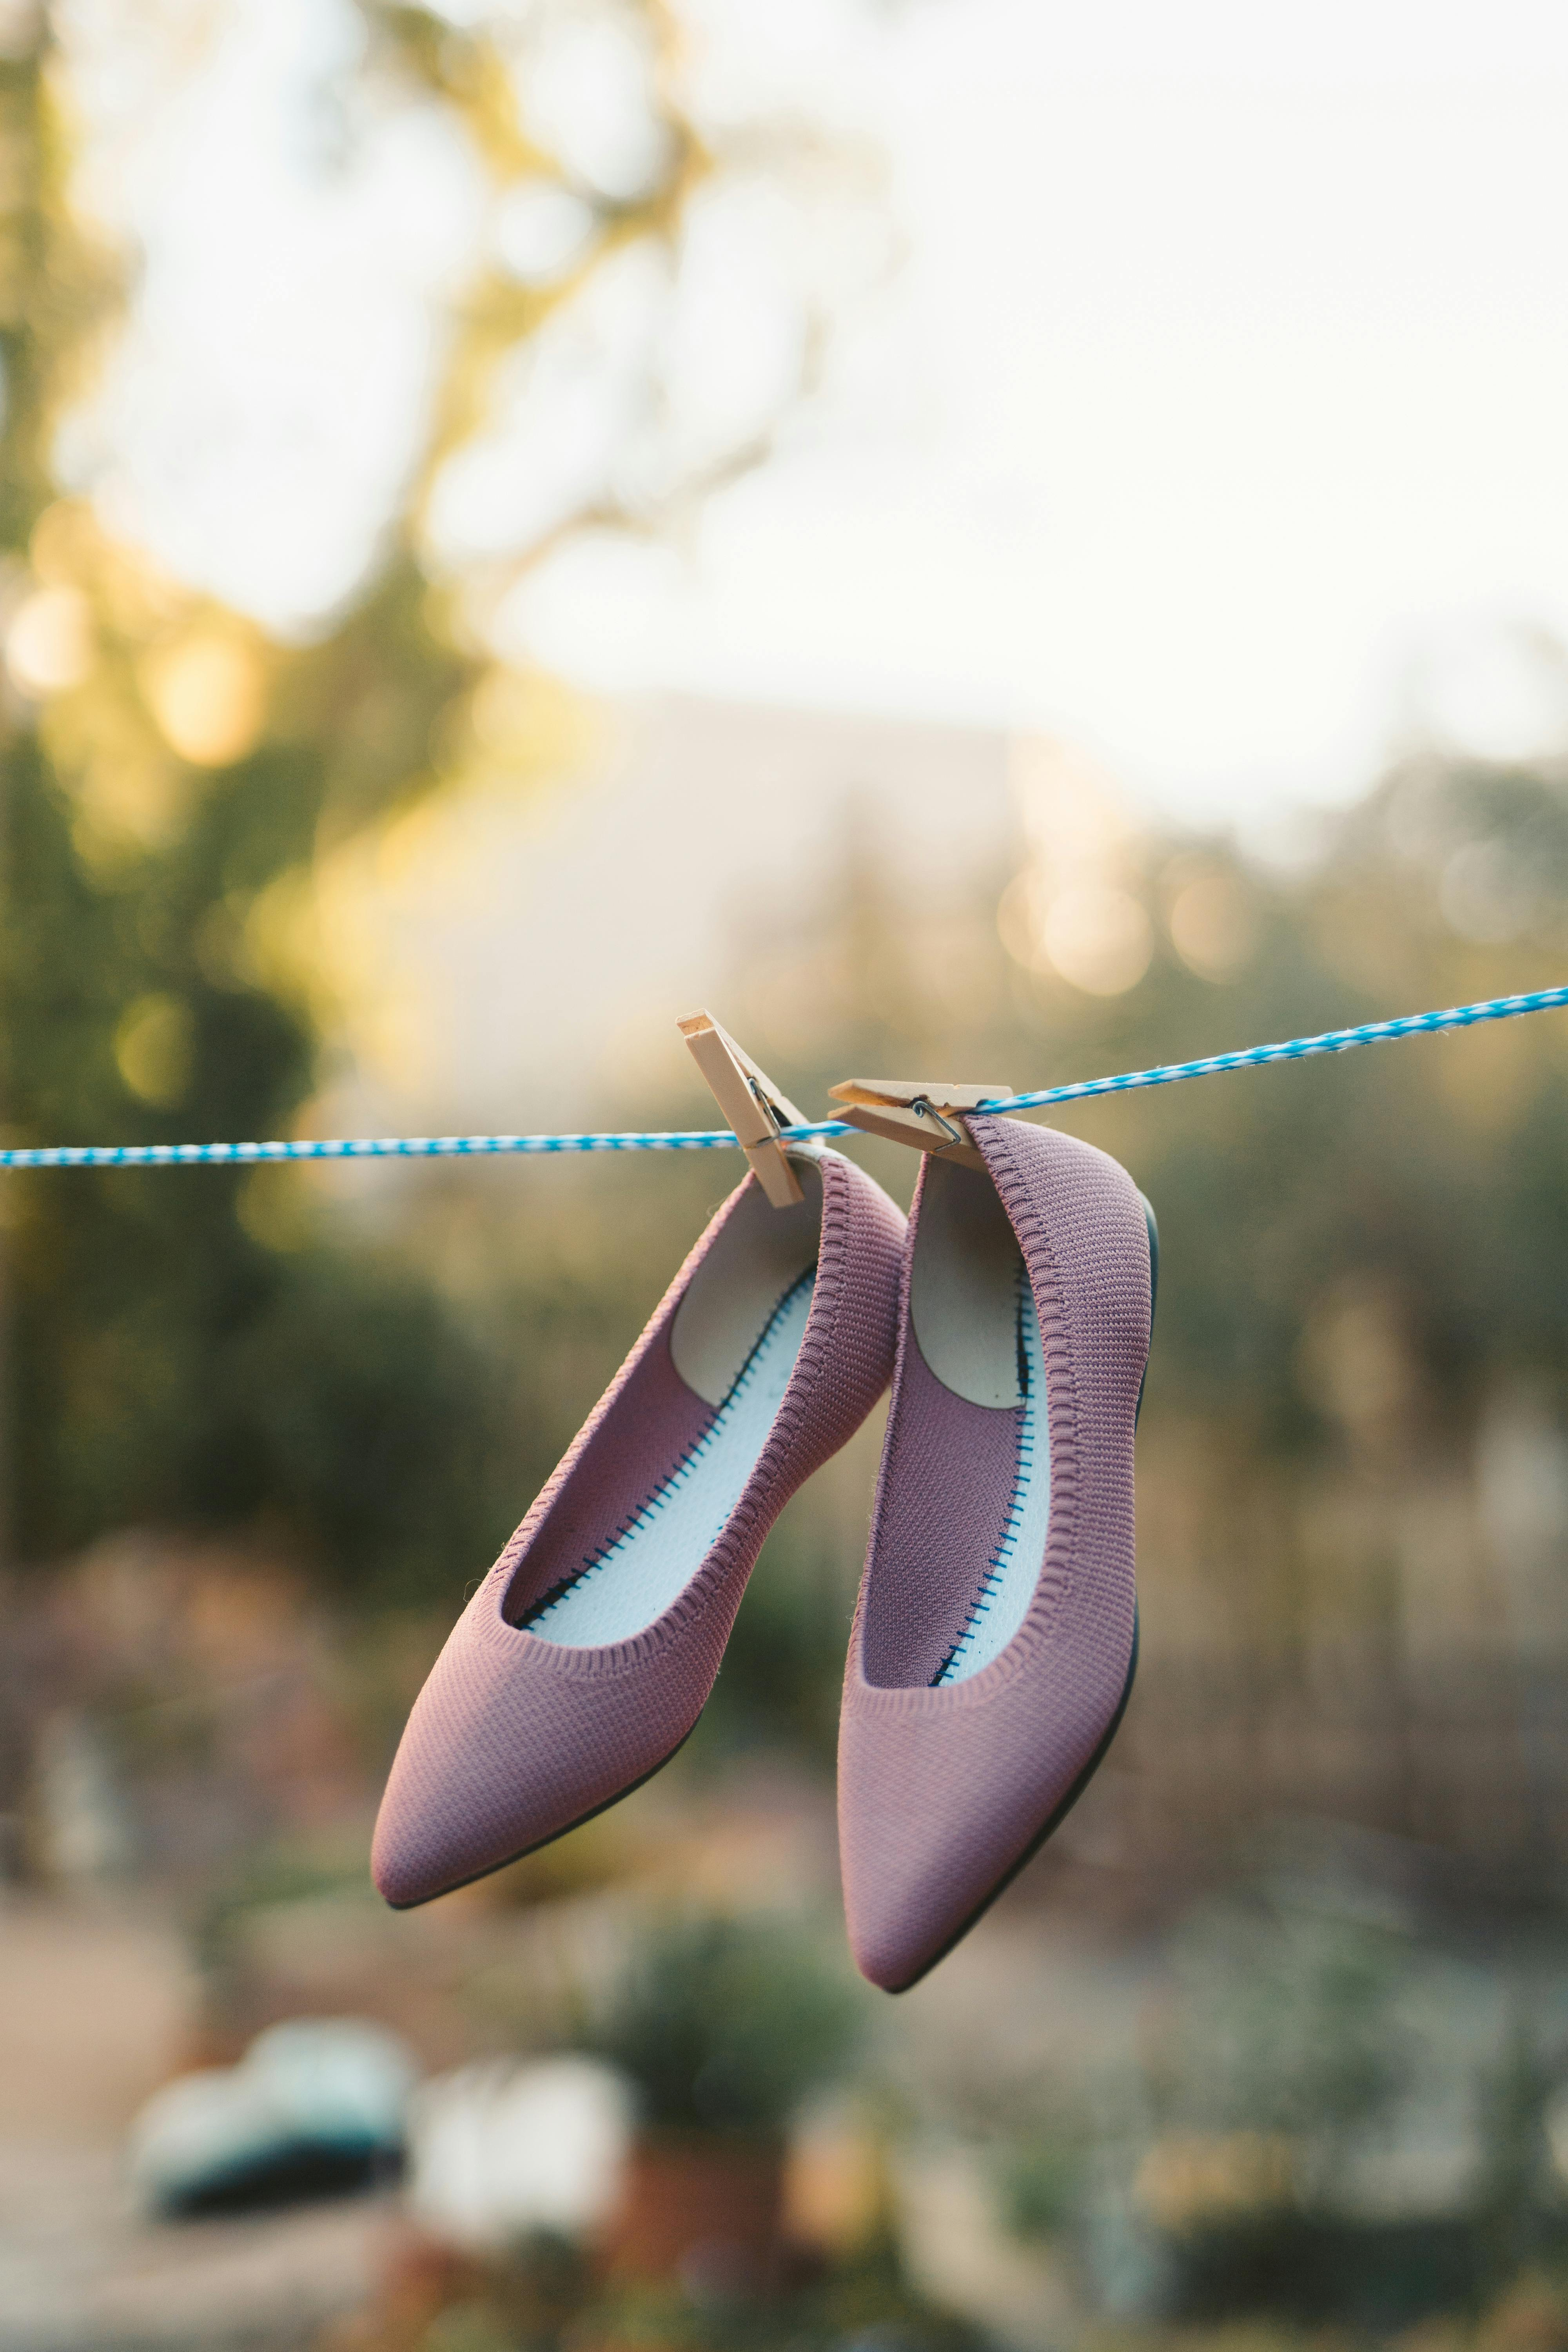Footwear: (311, 1139, 1302, 2020)
